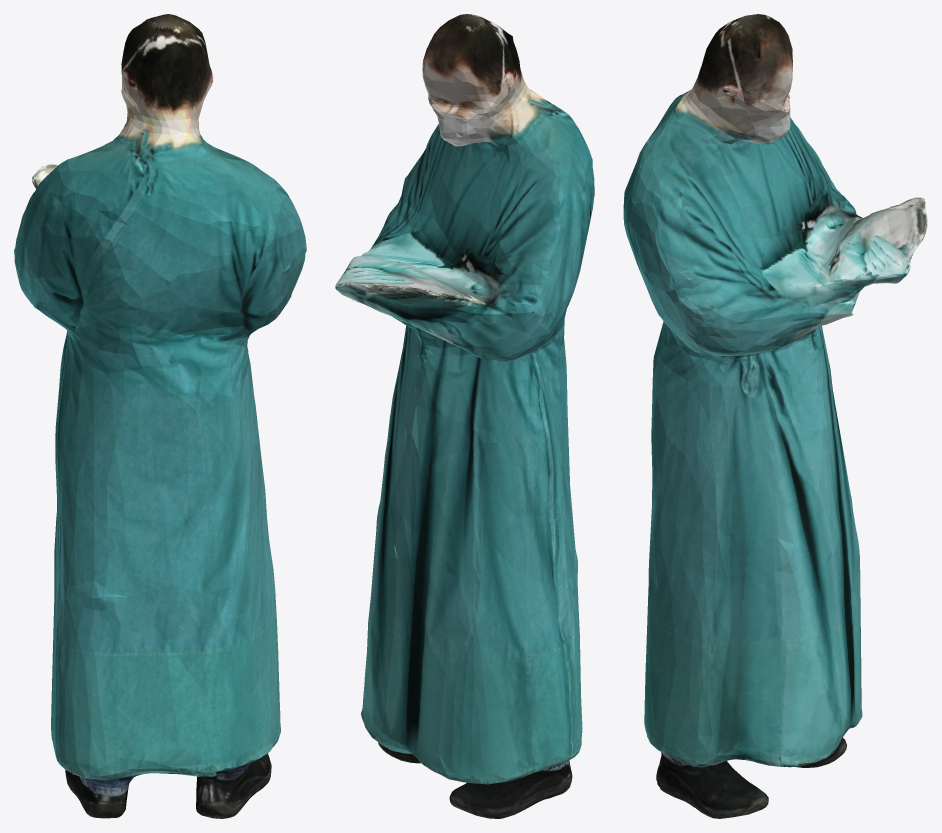
3 views of the same model, side by side, from view 1: azimuth 30°, elevation 25°; view 2: azimuth 150°, elevation 25°; view 3: azimuth 270°, elevation 25° (orthographic).
Visible parts, largest first — view 1: ORITGT01; view 2: ORITGT01; view 3: ORITGT01.
Boxes of the visible parts, box(x1,y1,x2,y2) form: ORITGT01: box(14, 14, 306, 818); ORITGT01: box(335, 14, 594, 818); ORITGT01: box(623, 14, 927, 818).
Bounding box in the file's own units: 4.22 × 13.77 × 4.94.
